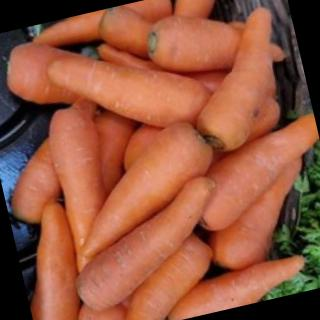Wortel: (57, 174, 240, 316), (55, 116, 232, 260)
